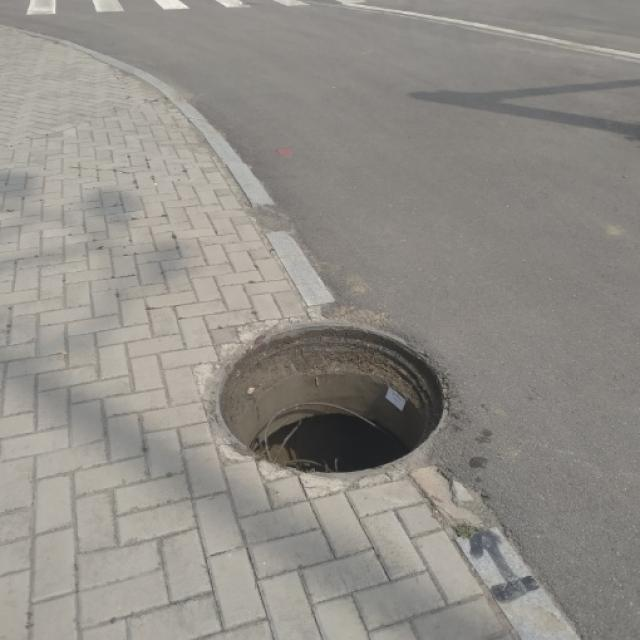Uncovered: (197, 310, 476, 496)
